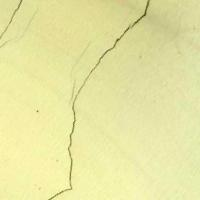crack: (35, 1, 158, 199)
